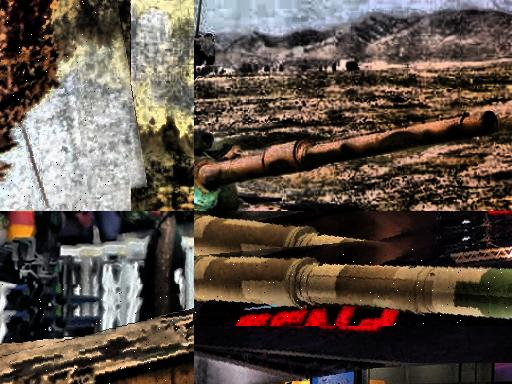tanks: (195, 112, 498, 212), (195, 248, 512, 319), (1, 307, 195, 384), (196, 43, 216, 64), (195, 66, 196, 78)
